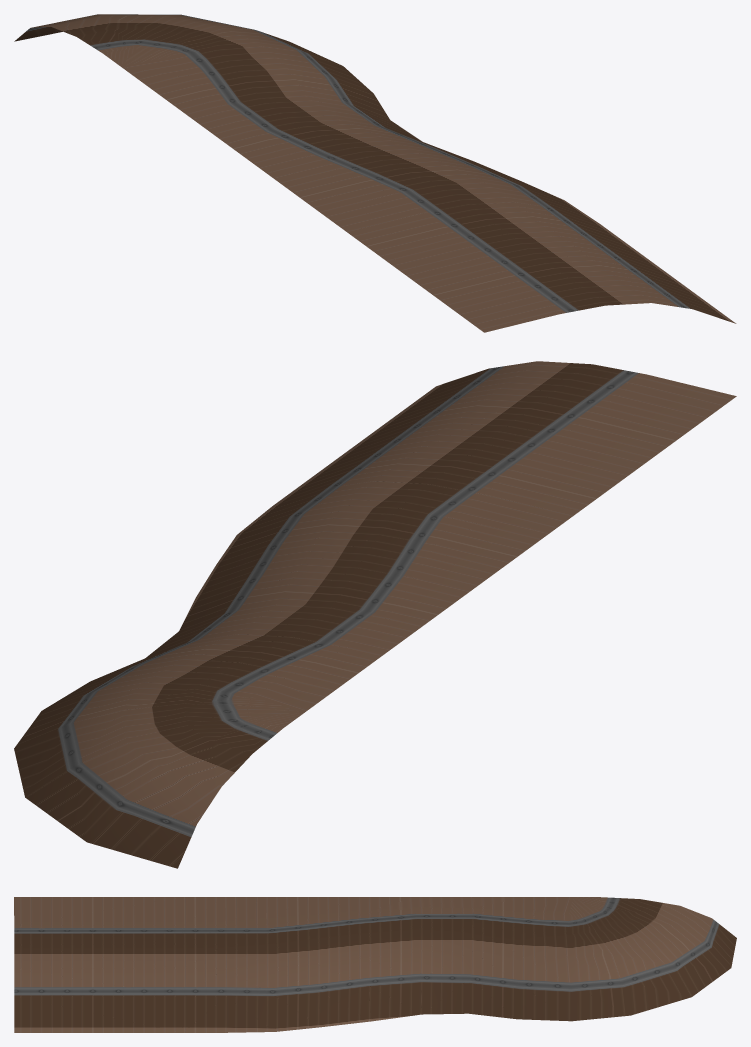
Rendered from Beach.fbx.
3 renders of one model, top to bottom at view 1: azimuth 30°, elevation 25°; view 2: azimuth 150°, elevation 25°; view 3: azimuth 270°, elevation 25°, orthographic. The views are drawn at different scales.
Visible parts, largest first — view 1: Plane.020; view 2: Plane.020; view 3: Plane.020.
Boxes of the visible parts, x1,y1,x2,y2 form: Plane.020: [14, 14, 736, 332]; Plane.020: [14, 361, 736, 868]; Plane.020: [14, 897, 736, 1032].
Size of the model in its own units: 3530 by 710 by 11372.
